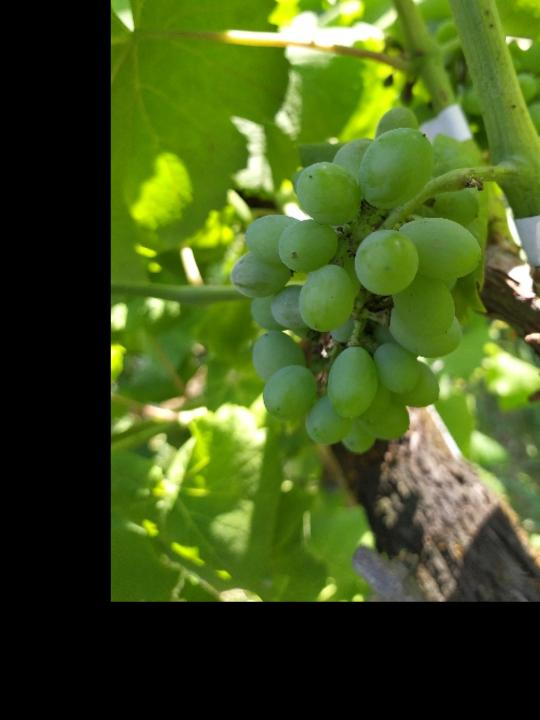grape: (229, 106, 482, 458)
